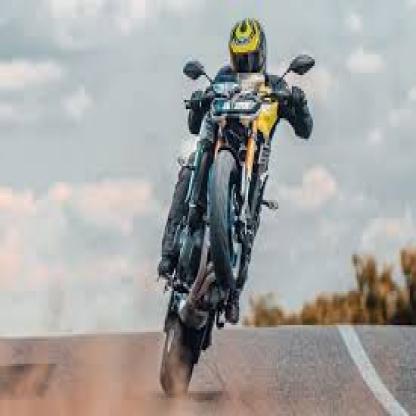bike: (153, 73, 299, 400)
